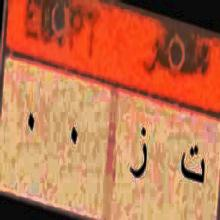0: (68, 117, 80, 163), (27, 108, 37, 137)
taa: (178, 132, 208, 200)
zay: (129, 118, 149, 184)
